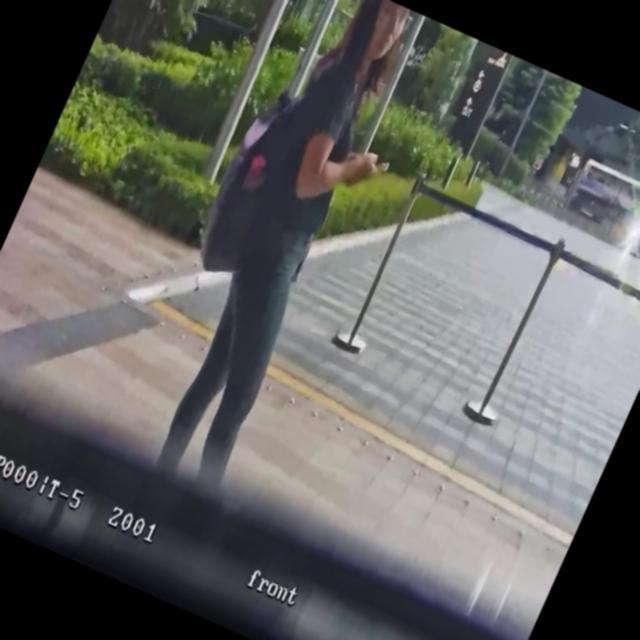person: (136, 0, 441, 506)
